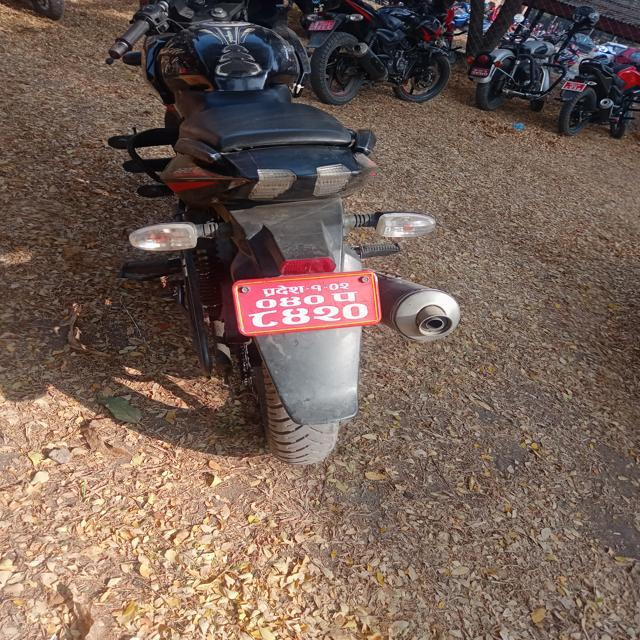license_plate: (161, 226, 448, 438)
